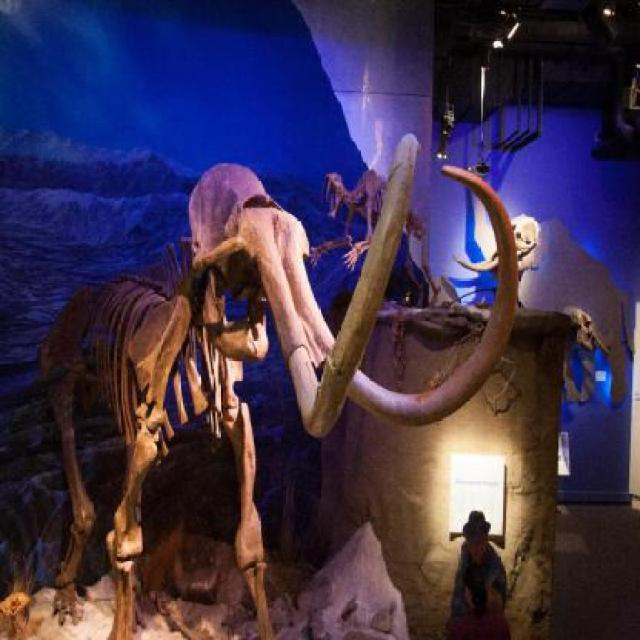Elephant: (0, 167, 528, 579)
